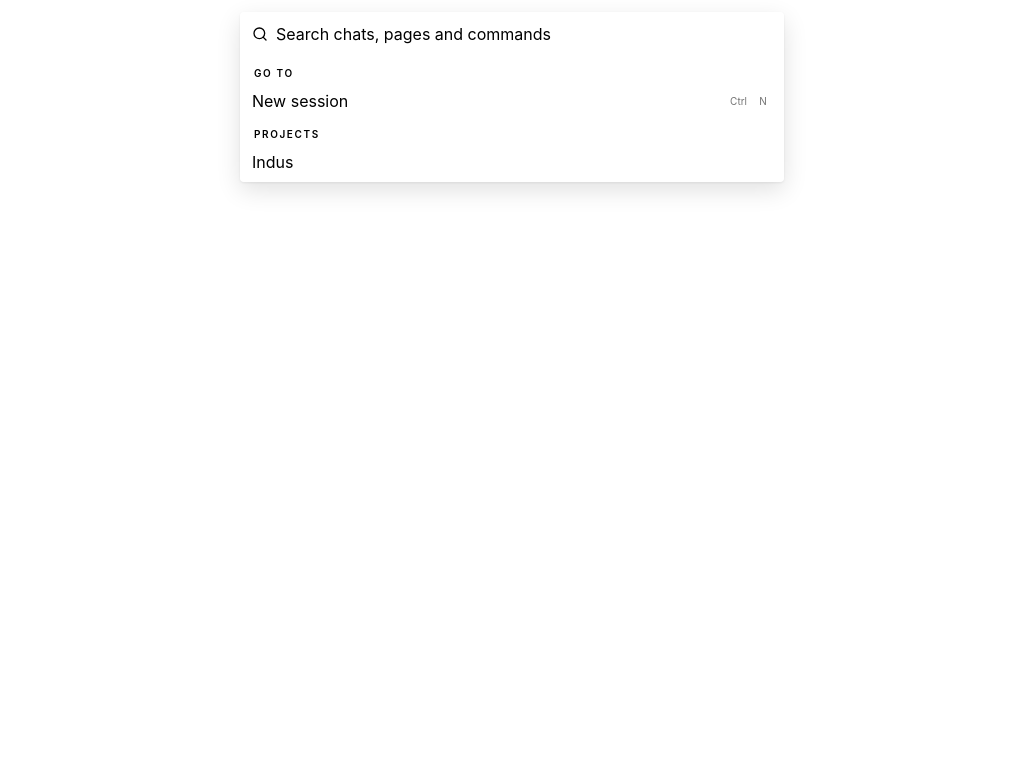
Test: palette-command area › opens on Ctrl+K with grouped rows, key caps and search-only chats (W52-h)
The image size is (1024, 768).
Expected: the options read "New session", "Indus", in this order, [244, 85, 780, 117]; [252, 152, 294, 172]
In the dropdown: {"x": 524, "y": 34} [276, 22, 772, 46], type "lun"
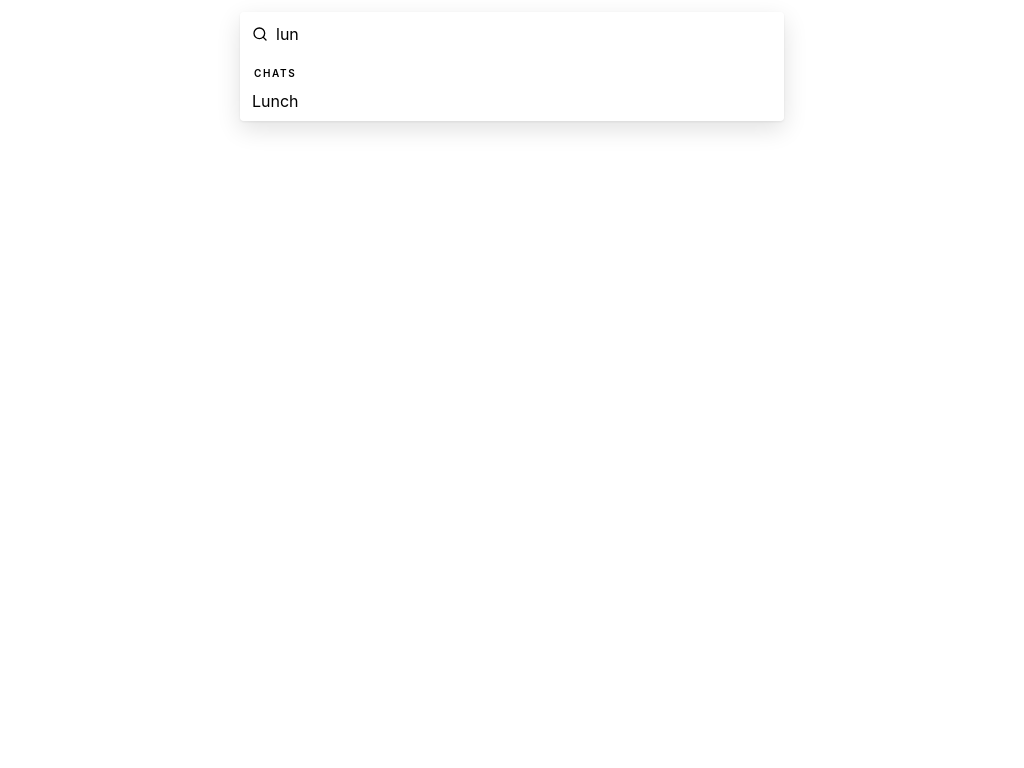
Expected: the options read "Lunch", in this order, [252, 91, 299, 111]
